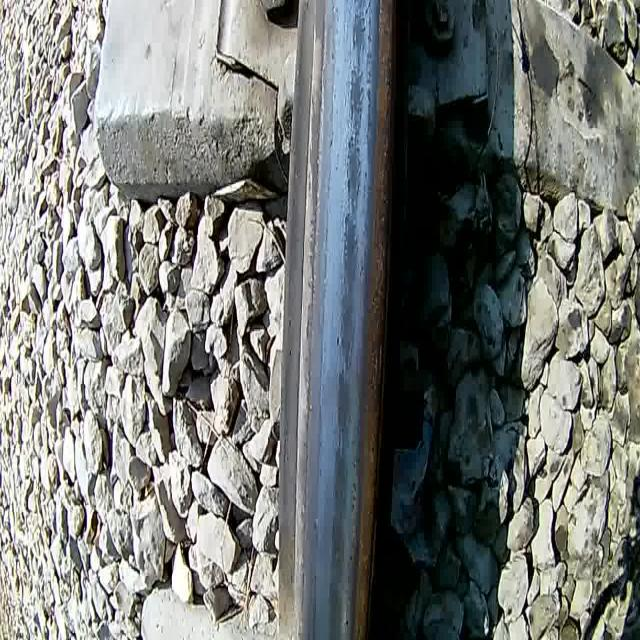Cracks: (362, 0, 373, 141), (334, 402, 353, 462), (340, 206, 351, 268), (344, 134, 352, 198), (348, 69, 355, 132), (349, 7, 358, 56), (354, 102, 364, 143), (355, 142, 362, 200), (345, 335, 352, 376)
Squats: (338, 204, 363, 300), (342, 132, 368, 206), (334, 298, 359, 374), (330, 368, 357, 436), (328, 441, 353, 513), (345, 0, 373, 63), (344, 62, 367, 132), (322, 575, 346, 640), (326, 511, 348, 579)
